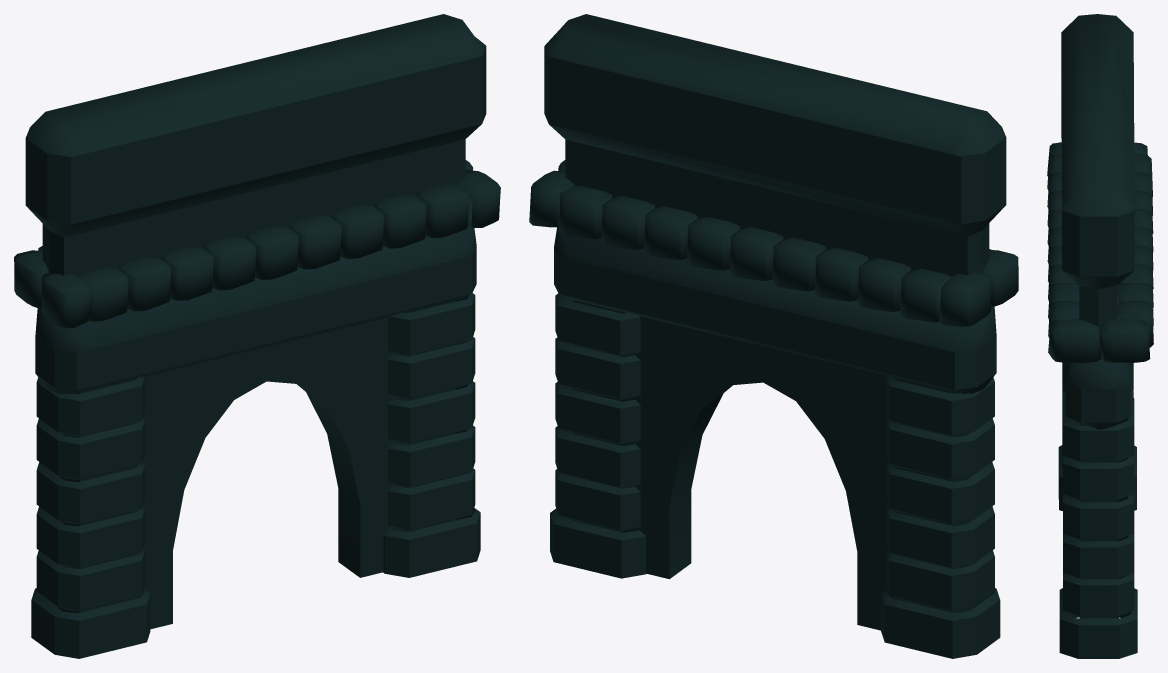
The model's file is Ruins_Entrance_Wall.FBX.
3 renders of one model, left to right at view 1: azimuth 30°, elevation 25°; view 2: azimuth 150°, elevation 25°; view 3: azimuth 270°, elevation 25°, orthographic. The views are drawn at different scales.
Parts seen in each view (by area): view 1: Wall; view 2: Wall; view 3: Wall.
Part boxes in pixels (x1,y1,x2,y2): Wall: (14, 14, 500, 658); Wall: (529, 14, 1018, 658); Wall: (1047, 14, 1153, 658).
Bounding box in the file's own units: 182 × 206 × 42.87.
